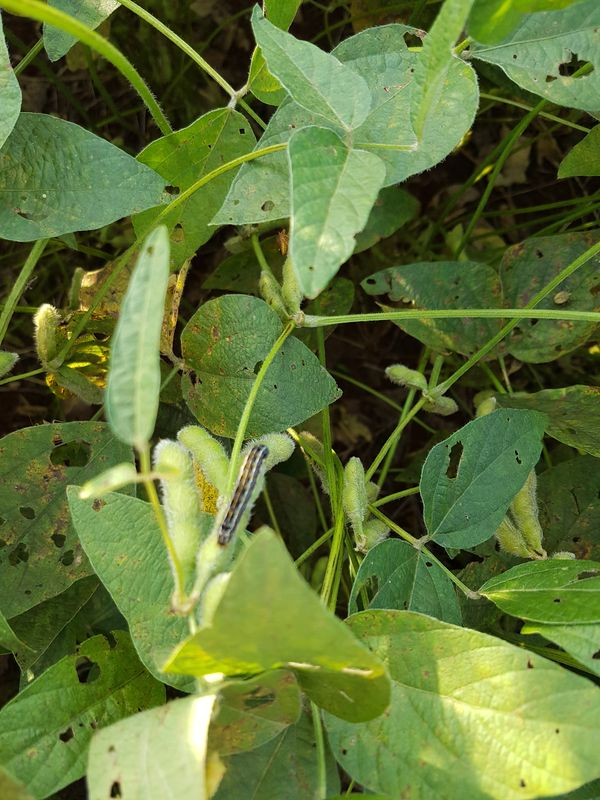Spodoptera_albula: (207, 433, 283, 558)
